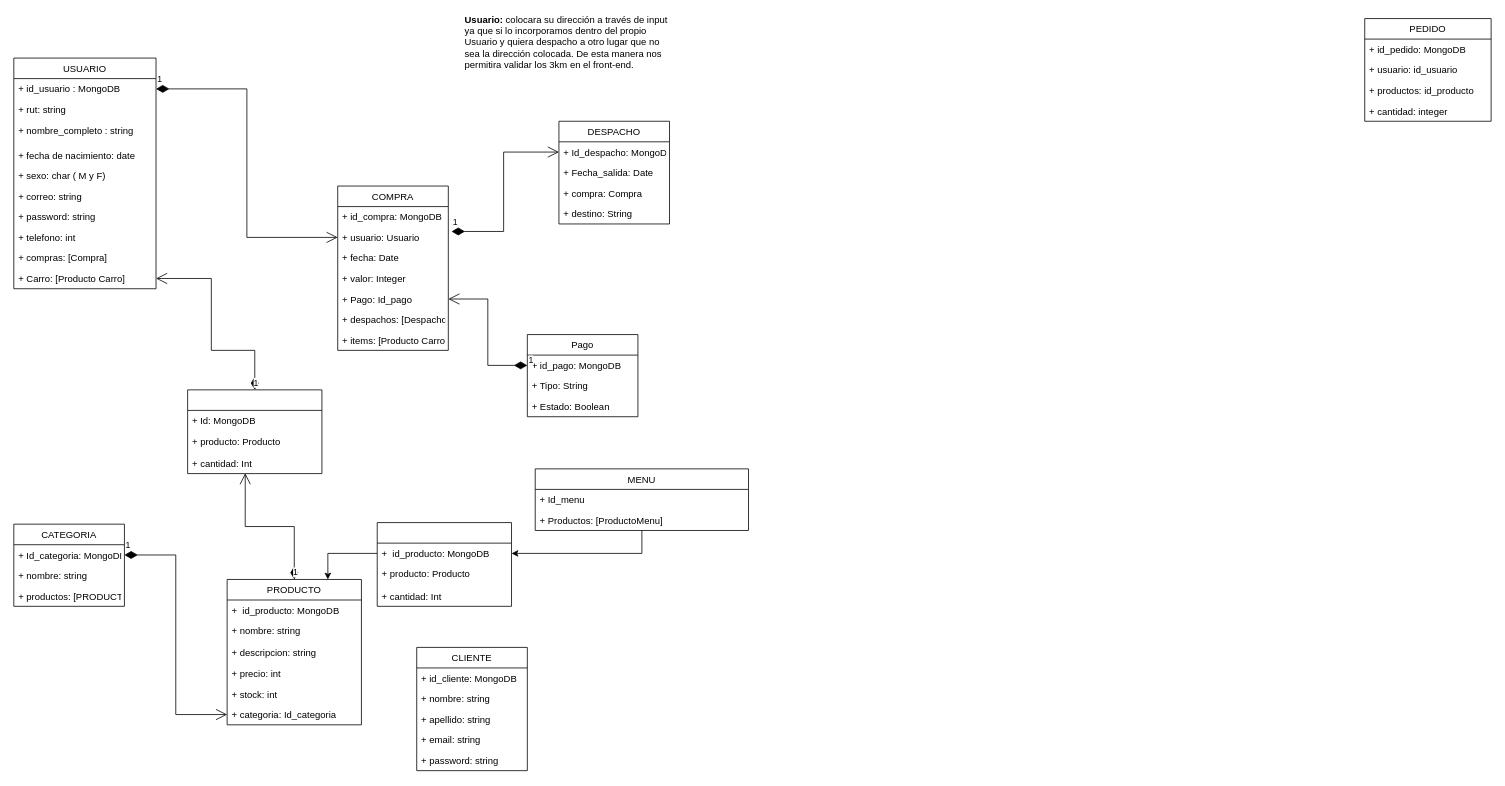
This 1505x786 diagram has some shape labels left out. Each missing label, with the box of its shape:
Producto Carro: (187, 389, 322, 474)
Producto Menu: (376, 522, 512, 606)
